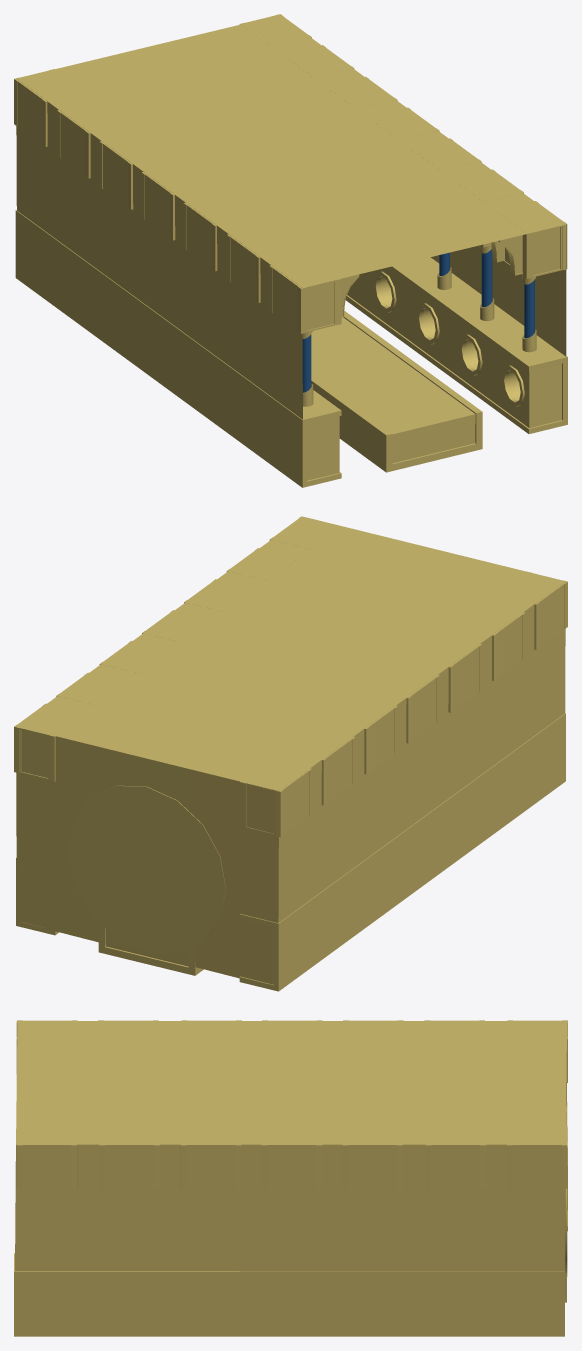
The model's file is Salle3.fbx.
The picture shows the model from 3 angles, top to bottom: view 1: azimuth 30°, elevation 25°; view 2: azimuth 150°, elevation 25°; view 3: azimuth 270°, elevation 25°; orthographic projection. The views are drawn at different scales.
Parts seen in each view (by area): view 1: salle 3; view 2: salle 3; view 3: salle 3.
Part boxes in pixels (left/top/right/bottom): salle 3: left=14, top=14, right=567, bottom=487; salle 3: left=14, top=516, right=567, bottom=991; salle 3: left=14, top=1020, right=567, bottom=1336.
Bounding box in the file's own units: 1521 × 1118 × 2850.
